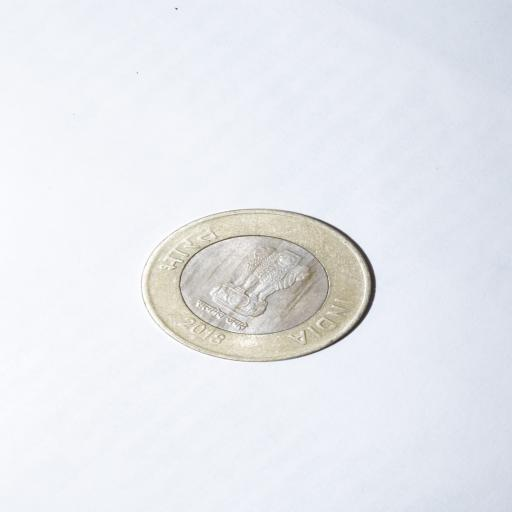rupee10: (138, 207, 374, 362)
